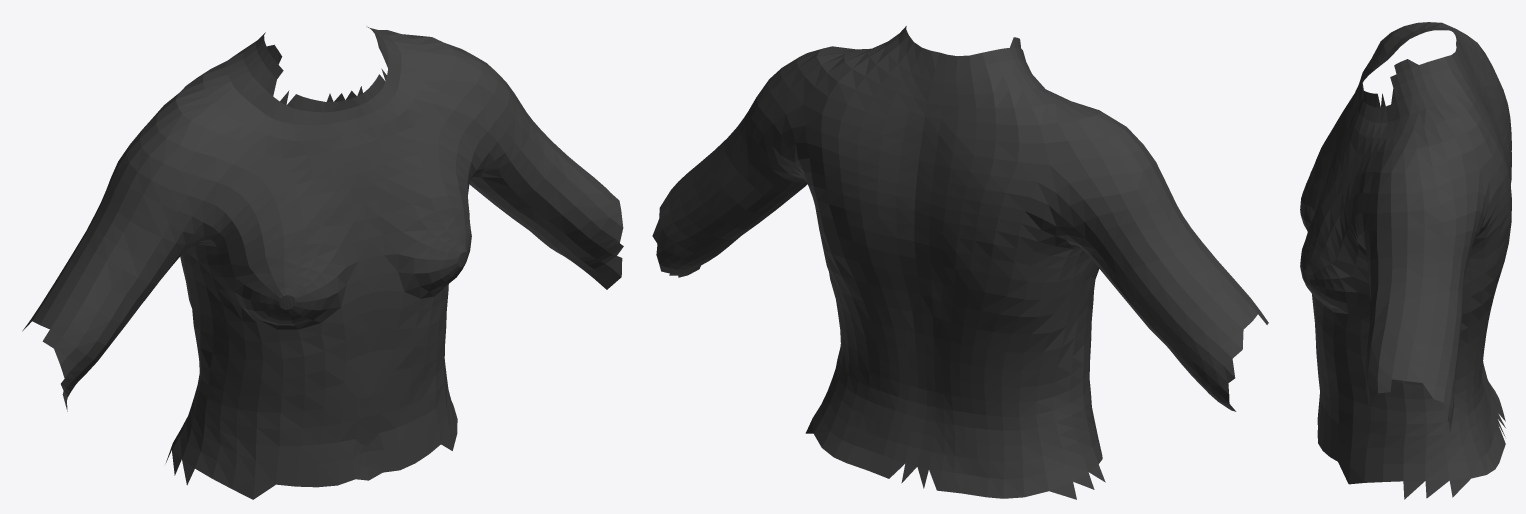
File: TSH-WW-CREW-TEST-1795545478_S.glb
3 renders of one model, left to right at view 1: azimuth 30°, elevation 25°; view 2: azimuth 150°, elevation 25°; view 3: azimuth 270°, elevation 25°, orthographic. The views are drawn at different scales.
Parts seen in each view (by area): view 1: geometry_0; view 2: geometry_0; view 3: geometry_0.
Part boxes in pixels (x1=…): geometry_0: x1=22, y1=26, x2=623, y2=499; geometry_0: x1=652, y1=26, x2=1268, y2=499; geometry_0: x1=1300, y1=22, x2=1511, y2=499.
Size of the model in its own units: 0.6333 by 0.4405 by 0.2105.
Materials: 1 (1 with a texture image).
